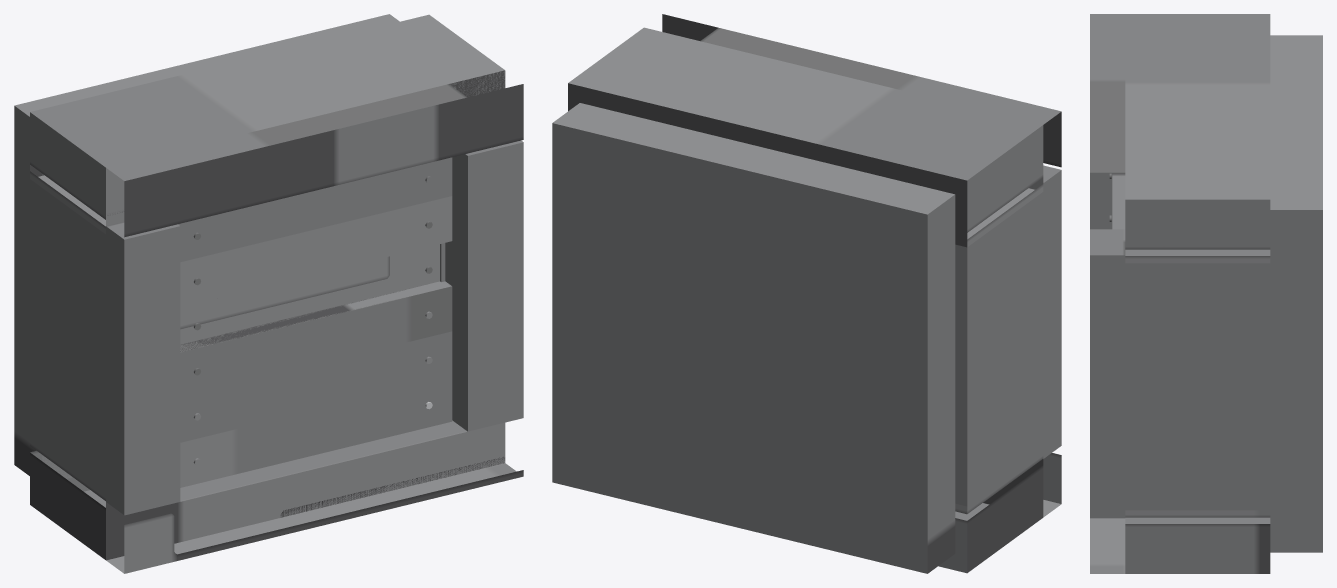
3 renders of one model, left to right at view 1: azimuth 30°, elevation 25°; view 2: azimuth 150°, elevation 25°; view 3: azimuth 270°, elevation 25°, orthographic. The views are drawn at different scales.
Bounding box in the file's own units: 1 × 0.94 × 0.53.
